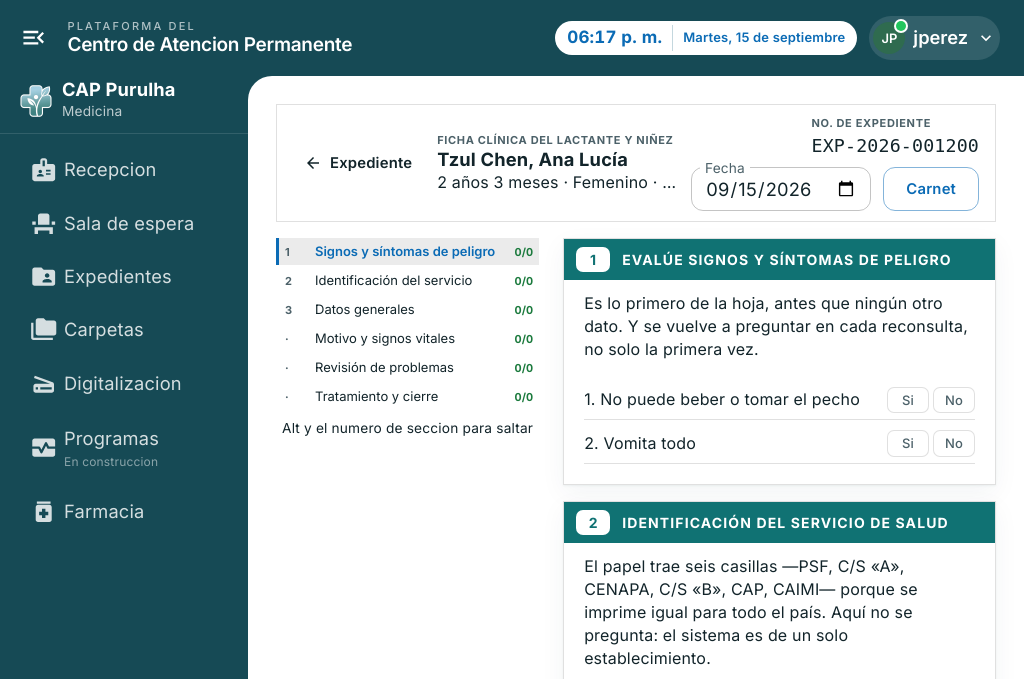
Test: la hoja de consulta en pantalla › marcar un signo de peligro dice qué hacer, sin adornarlo
This screenshot has width=1024, height=679.
Step 1. Click the radio button labelled "Si" in the row of "2. Vomita todo" → (908, 444), box [887, 430, 929, 457]
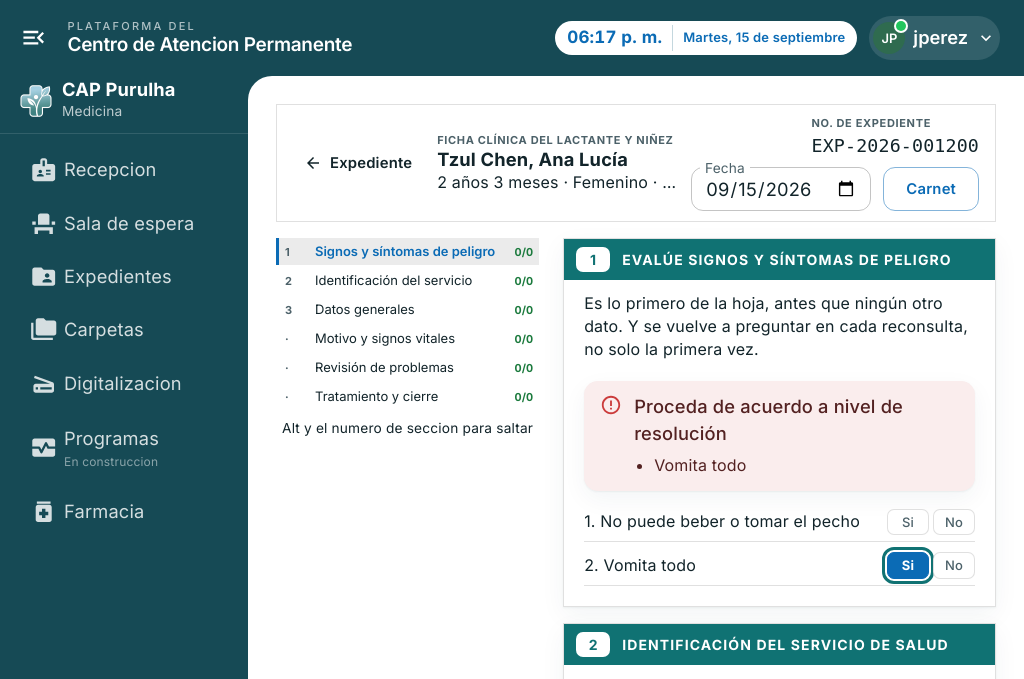
Expected: the text "Proceda de acuerdo a nivel de resolución" is shown, [634, 394, 903, 444]
